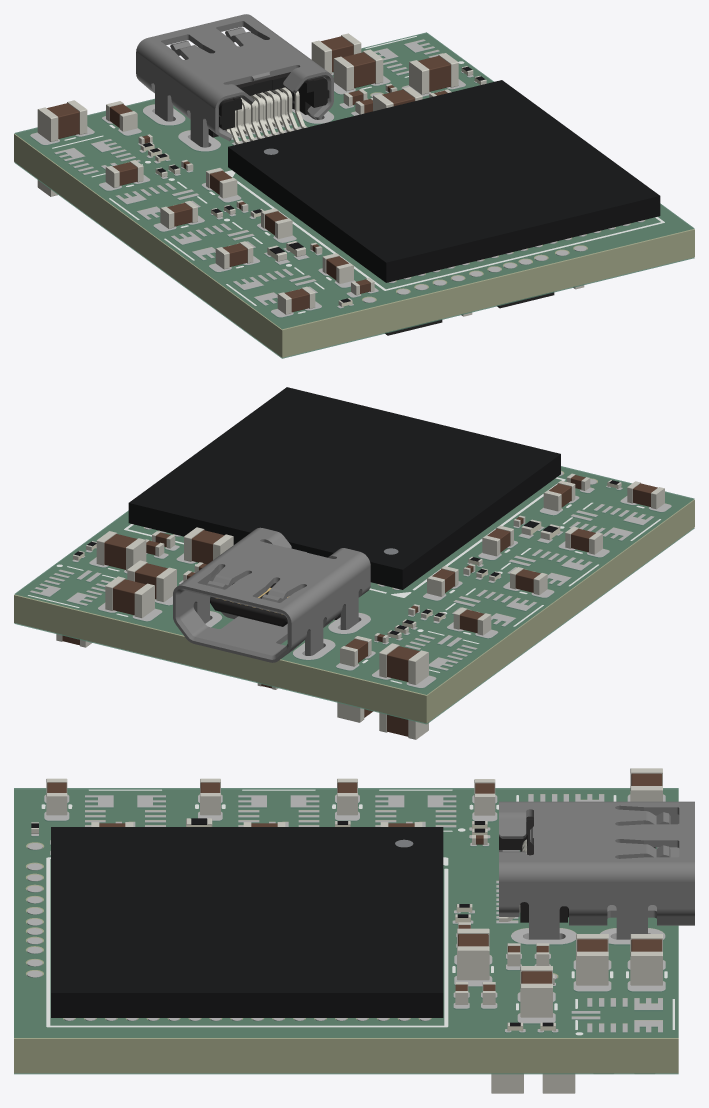
Rendered from frontend.glb.
The picture shows the model from 3 angles, top to bottom: view 1: azimuth 30°, elevation 25°; view 2: azimuth 150°, elevation 25°; view 3: azimuth 270°, elevation 25°; orthographic projection. The views are drawn at different scales.
Visible parts, largest first — view 1: CSG325_Body, =>[0:1:1:364], =>[0:1:1:362], =>[0:1:1:343], =>[0:1:1:359], =>[0:1:1:3] (×5), =>[0:1:1:339] (×8), =>[0:1:1:360], =>[0:1:1:363]; view 2: CSG325_Body, =>[0:1:1:364], =>[0:1:1:362], =>[0:1:1:343], =>[0:1:1:3] (×6), =>[0:1:1:359], =>[0:1:1:339] (×8), =>[0:1:1:360], =>[0:1:1:363]; view 3: CSG325_Body, =>[0:1:1:364], =>[0:1:1:362], =>[0:1:1:343], =>[0:1:1:359], =>[0:1:1:3] (×7), =>[0:1:1:360], =>[0:1:1:339] (×4), =>[0:1:1:363].
Boxes of the visible parts, x1,y1,x2,y2 form: CSG325_Body: (228,80,660,282); =>[0:1:1:364]: (14,34,694,357); =>[0:1:1:362]: (14,32,694,329); =>[0:1:1:343]: (136,14,333,147); =>[0:1:1:359]: (30,39,644,317); =>[0:1:1:3] (×5): (37,33,458,141); =>[0:1:1:339] (×8): (105,101,353,314); =>[0:1:1:360]: (52,36,664,313); =>[0:1:1:363]: (14,162,694,358); CSG325_Body: (128,387,560,589); =>[0:1:1:364]: (14,467,694,723); =>[0:1:1:362]: (14,466,694,694); =>[0:1:1:343]: (173,527,370,662); =>[0:1:1:3] (×6): (96,527,428,739); =>[0:1:1:359]: (30,471,671,688); =>[0:1:1:339] (×8): (340,480,664,666); =>[0:1:1:360]: (28,477,660,683); =>[0:1:1:363]: (14,528,694,724); CSG325_Body: (51,827,443,1017); =>[0:1:1:364]: (14,790,678,1073); =>[0:1:1:362]: (14,788,678,1037); =>[0:1:1:343]: (499,801,694,939); =>[0:1:1:359]: (27,794,665,1032); =>[0:1:1:3] (×7): (457,768,662,1093); =>[0:1:1:360]: (41,789,674,1035); =>[0:1:1:339] (×4): (46,778,495,815); =>[0:1:1:363]: (14,1073,678,1074).
Bounding box in the file's own units: 0.0226 × 0.00576 × 0.026.
